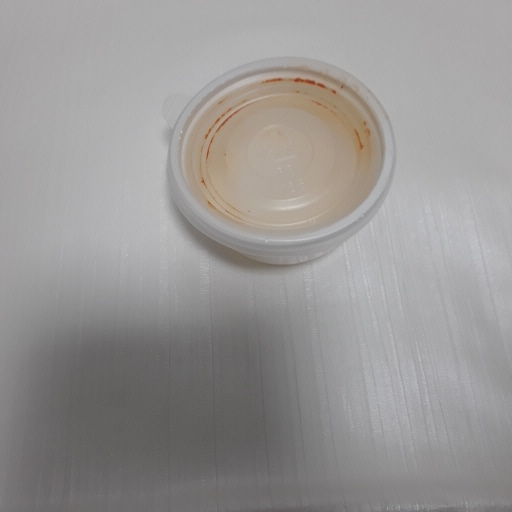Plastic_5: (157, 39, 402, 275)
